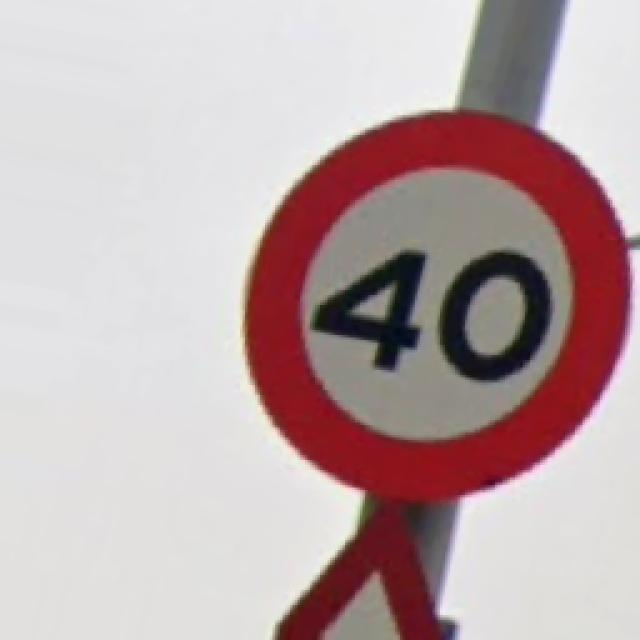Speed Limit -40-: (245, 112, 628, 500)
